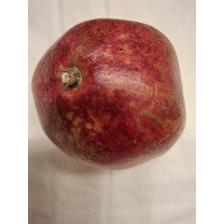Granatapfel: (30, 17, 188, 174)
